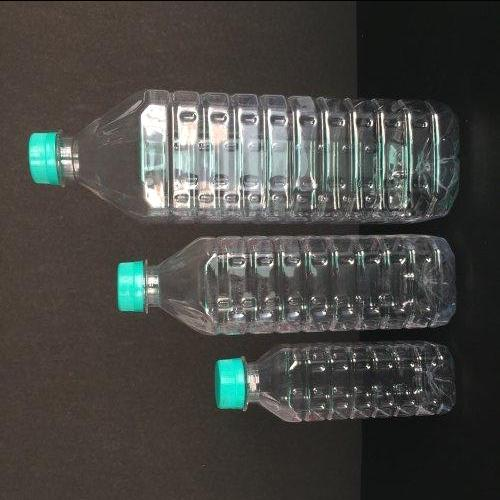bottle: (11, 84, 470, 224), (110, 228, 465, 334), (207, 336, 462, 422)
